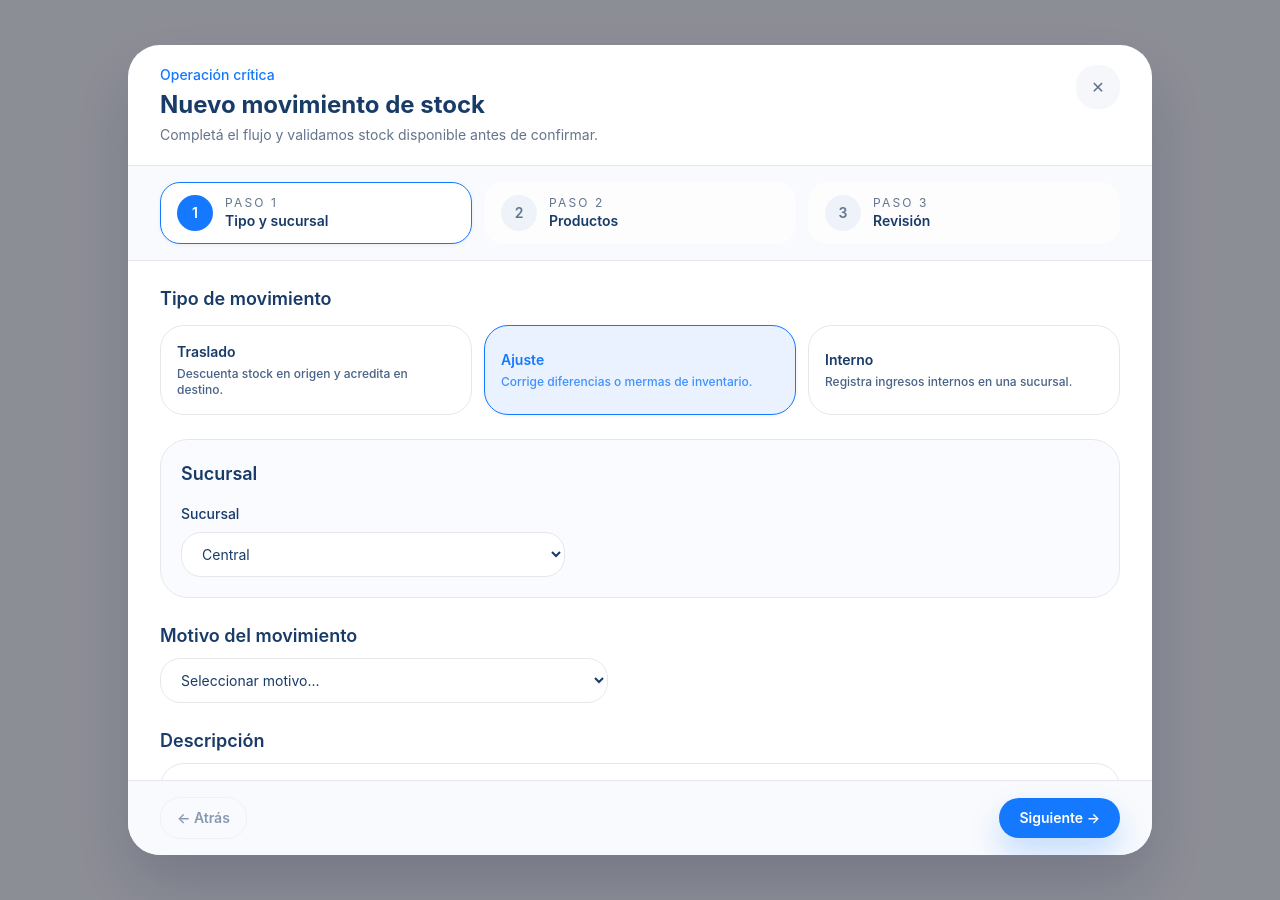
validateStep1 — navegación al paso 1 › muestra error si ADJUSTMENT no tiene reason_category_id
The width and height of the screenshot is (1280, 900).
# reason_category_id queda null tras el watcher
Click the button "Siguiente →" at (1060, 818), box [999,798,1120,838]
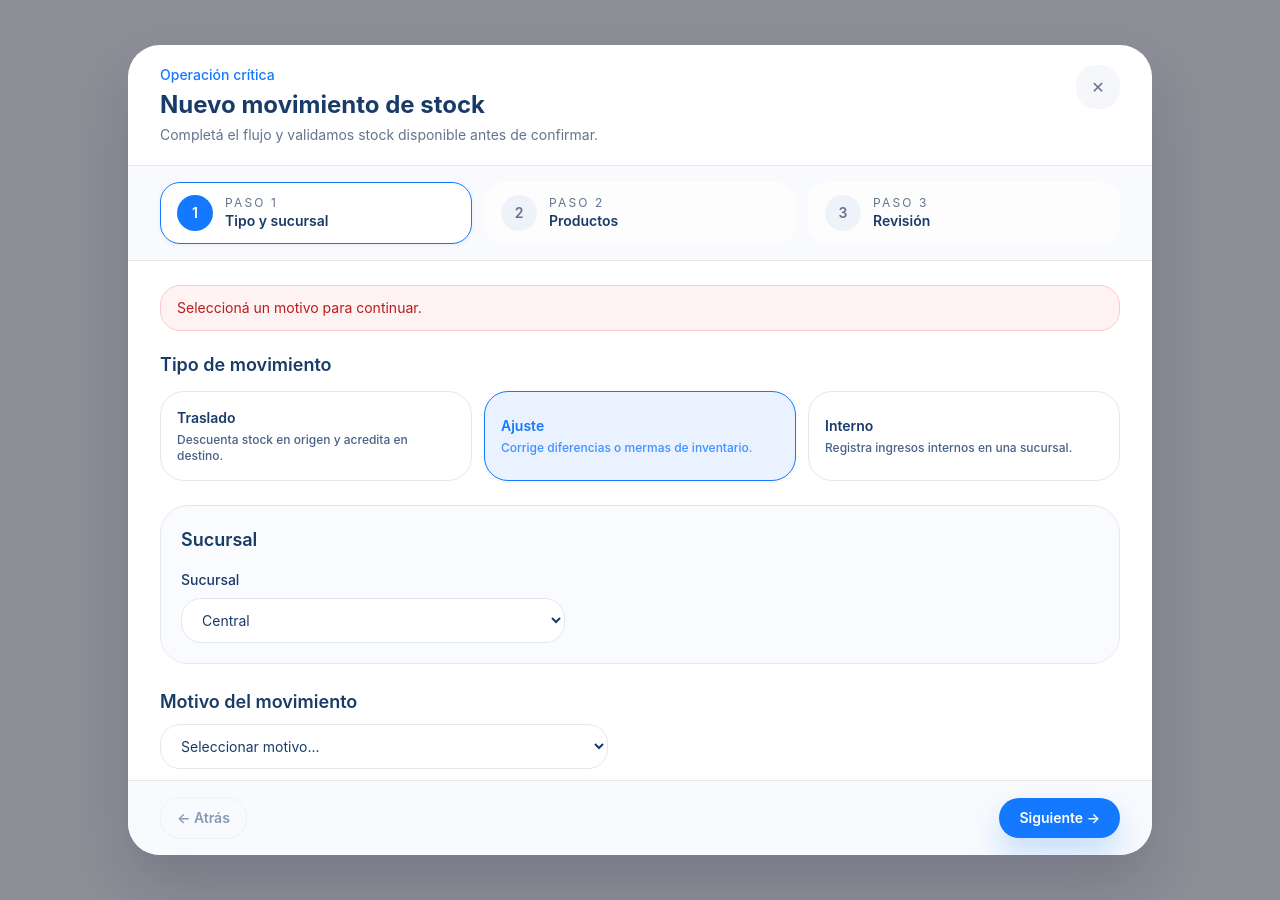
Result: the text "Seleccioná un motivo" is shown at [177,299,422,316]
